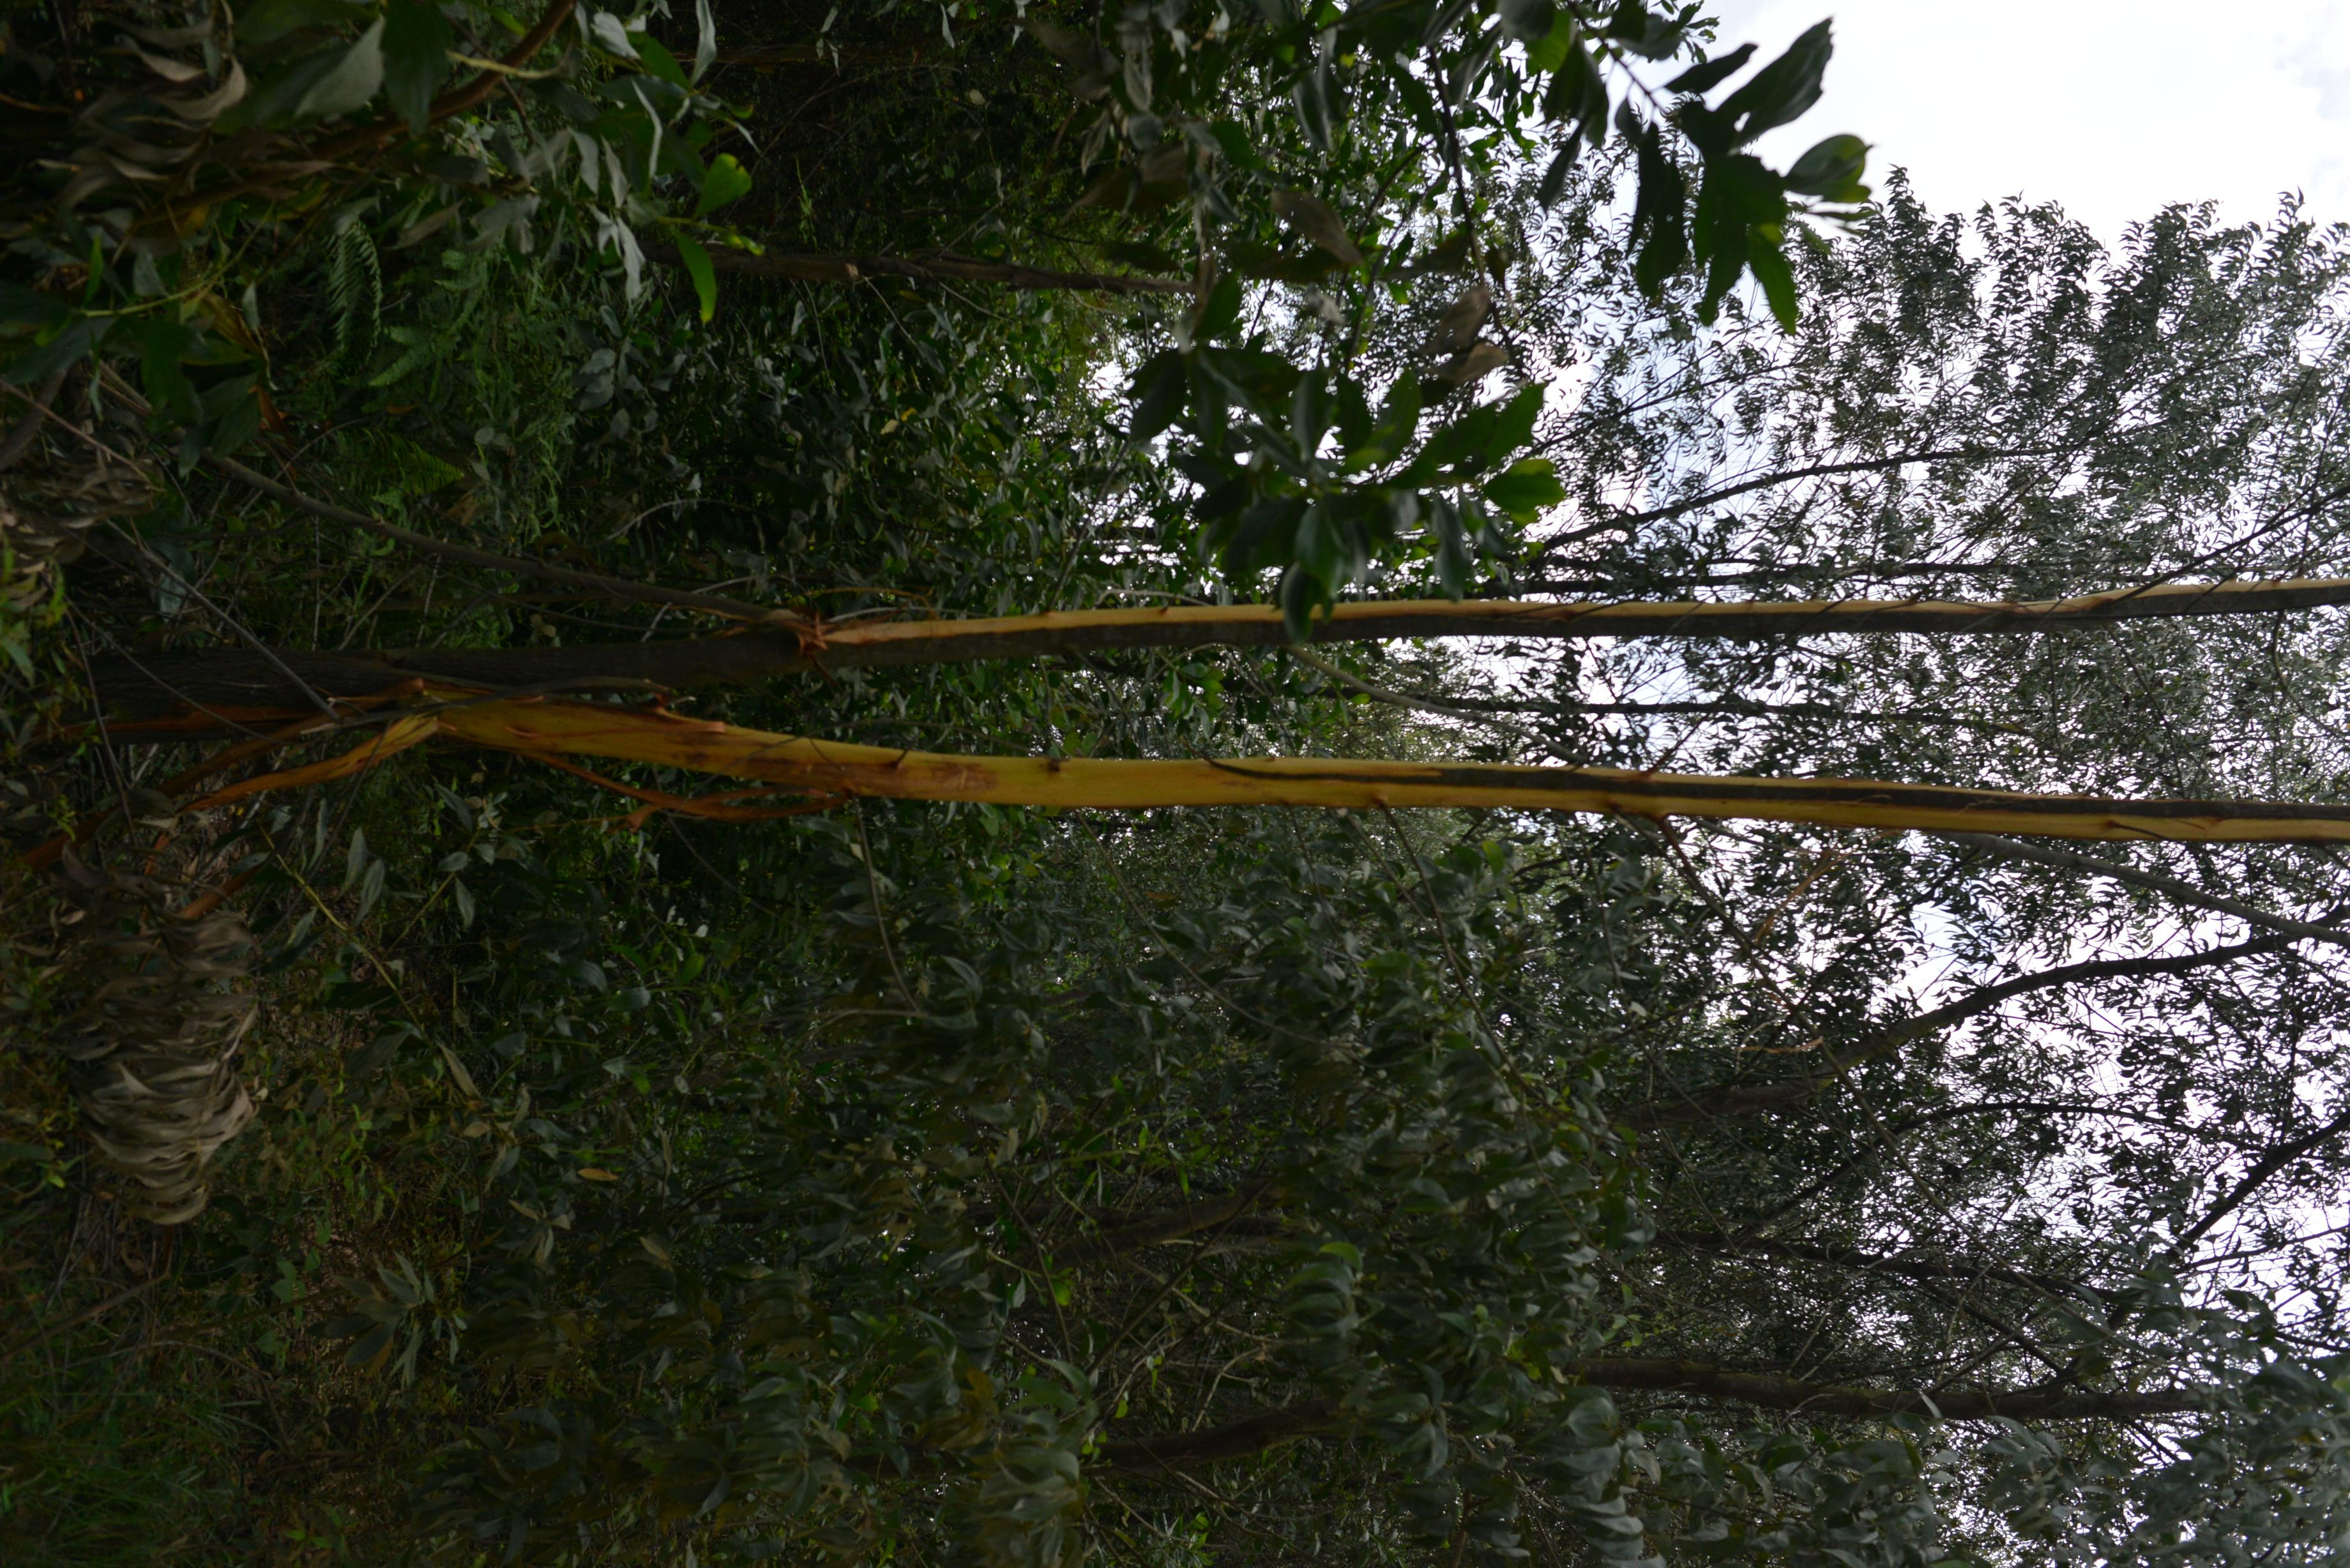Mammals Attack: (432, 688, 2350, 847), (812, 595, 2350, 642)
